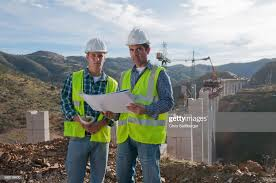helmet: (127, 26, 151, 44), (84, 37, 108, 53)
vest: (119, 70, 169, 143), (65, 71, 113, 137)
